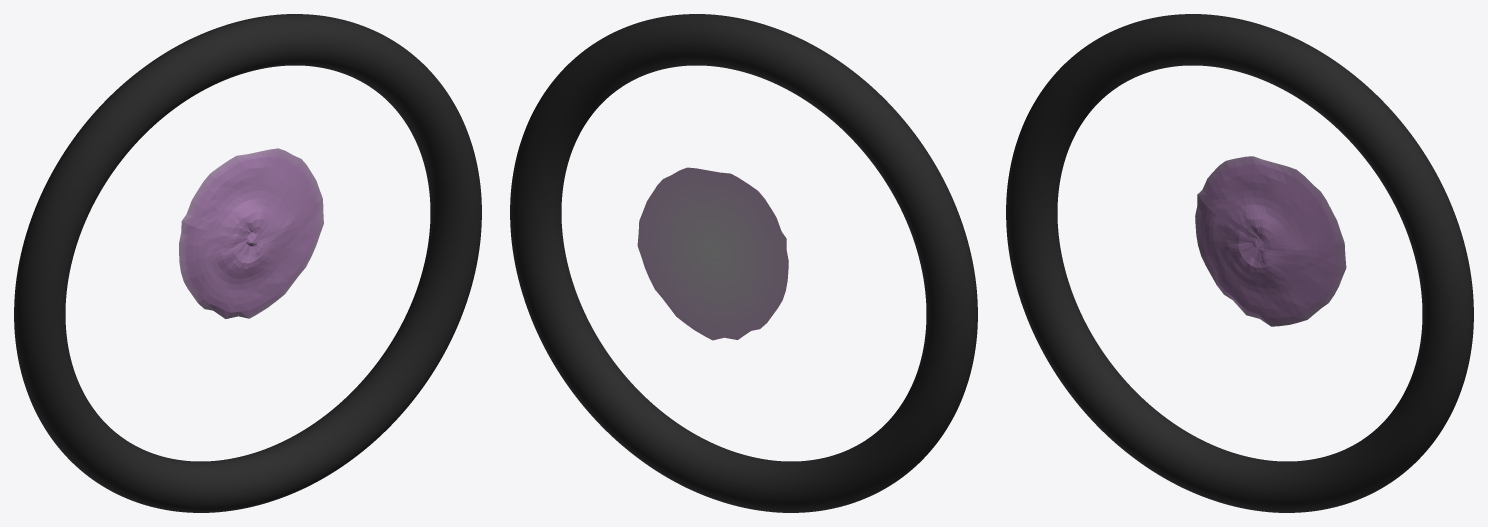
3 views of the same model, side by side, from view 1: azimuth 30°, elevation 25°; view 2: azimuth 150°, elevation 25°; view 3: azimuth 330°, elevation 25° (orthographic).
Parts seen in each view (by area): view 1: fixed_CAD_Ring, polyp_body_inferred_base_gray; view 2: fixed_CAD_Ring, polyp_body_inferred_base_gray; view 3: fixed_CAD_Ring, polyp_body_inferred_base_gray.
Boxes of the visible parts, box(x1,y1,x2,y2) form: fixed_CAD_Ring: box(14, 14, 481, 512); polyp_body_inferred_base_gray: box(179, 148, 323, 318); fixed_CAD_Ring: box(510, 14, 977, 512); polyp_body_inferred_base_gray: box(637, 167, 788, 340); fixed_CAD_Ring: box(1006, 14, 1473, 512); polyp_body_inferred_base_gray: box(1195, 156, 1346, 326).
Bounding box in the file's own units: 0.0124 × 0.0124 × 0.00132.
